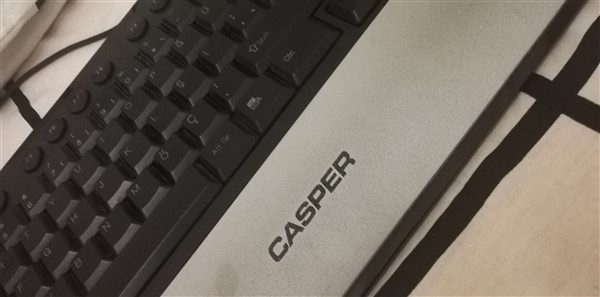klavye: (2, 1, 578, 297)
